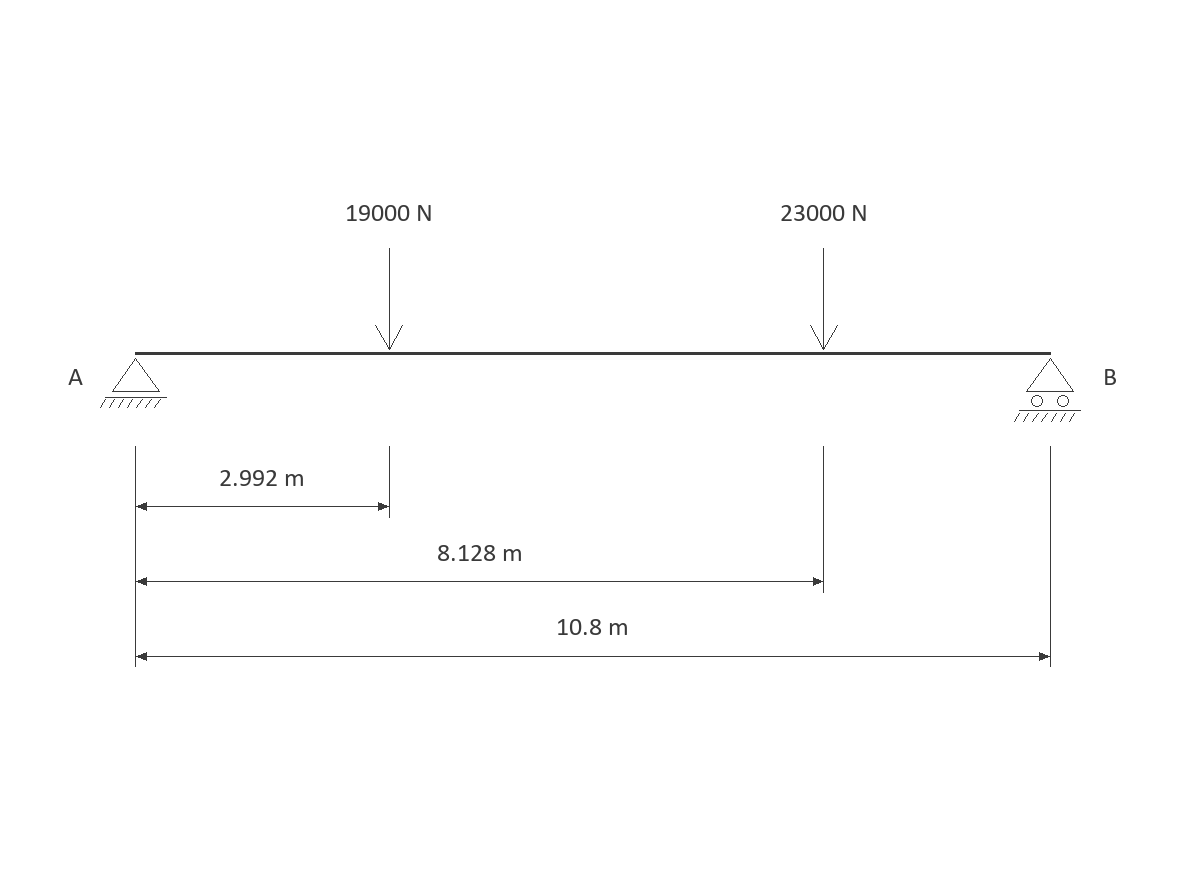pin_support: (100, 358, 167, 408)
point_load: (375, 248, 403, 350), (810, 248, 838, 350)
roller_support: (1014, 358, 1081, 422)
